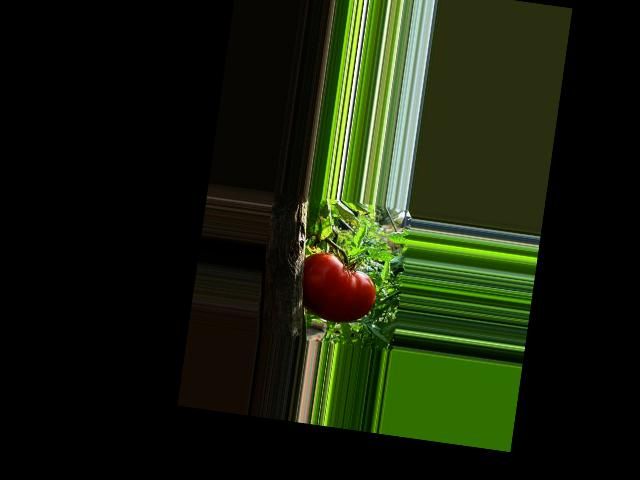tomato: (296, 249, 381, 326)
